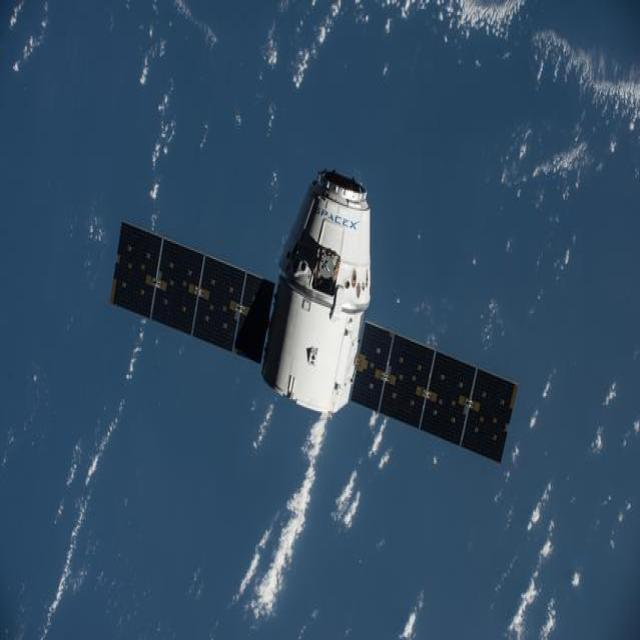medium_debris: (106, 163, 536, 506)
